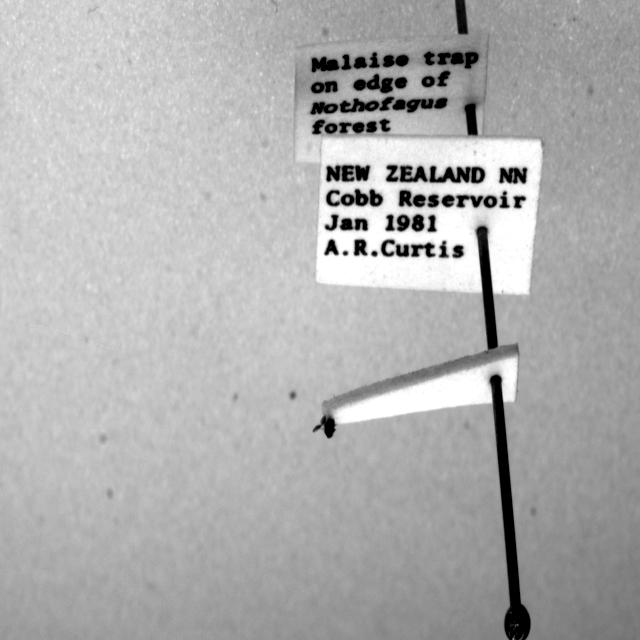typed_label: (316, 137, 542, 294), (294, 34, 489, 161)
